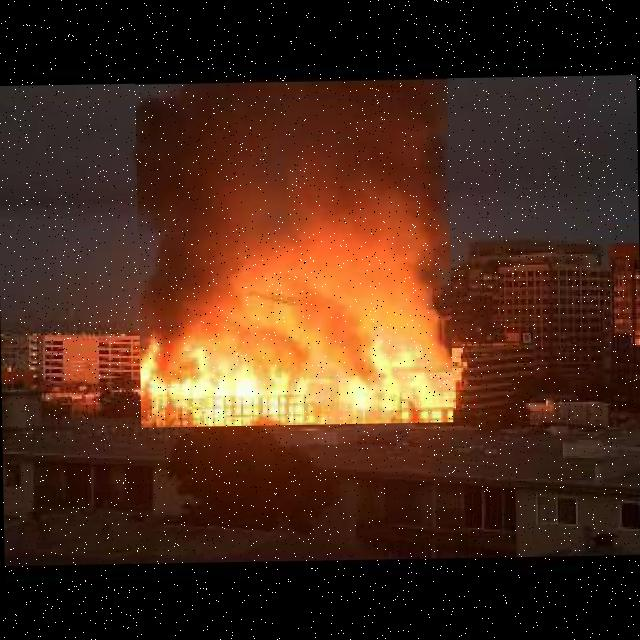fire: (134, 68, 452, 427)
